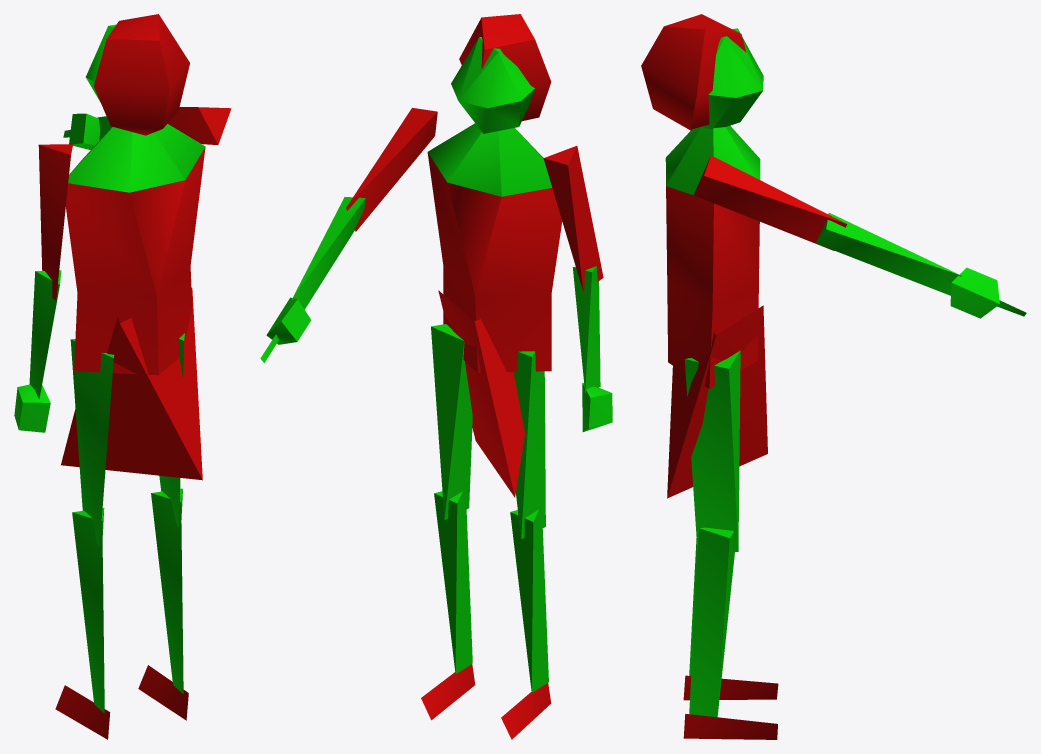
The model's file is stand_point_lod2.glb.
The picture shows the model from 3 angles, left to right: view 1: azimuth 30°, elevation 25°; view 2: azimuth 150°, elevation 25°; view 3: azimuth 270°, elevation 25°; orthographic projection. The views are drawn at different scales.
Parts seen in each view (by area): view 1: OUT_2; view 2: OUT_2; view 3: OUT_2.
Part boxes in pixels (x1,y1,x2,y2): OUT_2: (14, 14, 231, 739); OUT_2: (260, 14, 612, 739); OUT_2: (641, 14, 1026, 739).
Size of the model in its own units: 0.555 by 1.71 by 0.8502.
